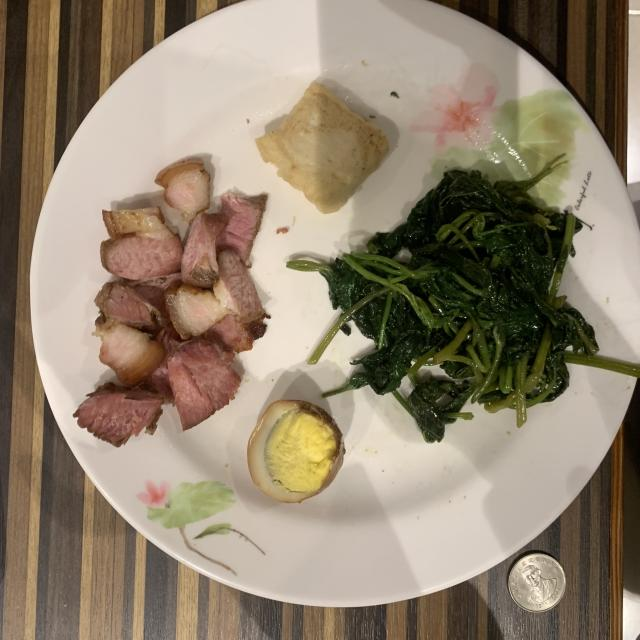coin: (509, 552, 566, 612)
creamy tofu -without sauce-: (256, 82, 389, 214)
grilled pork: (75, 158, 268, 446)
soy egg: (248, 400, 345, 502)
sweet potato leaves: (286, 152, 640, 442)
